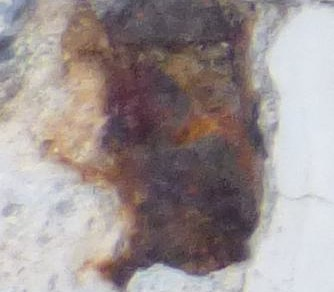Corrosion: (36, 1, 283, 292)
